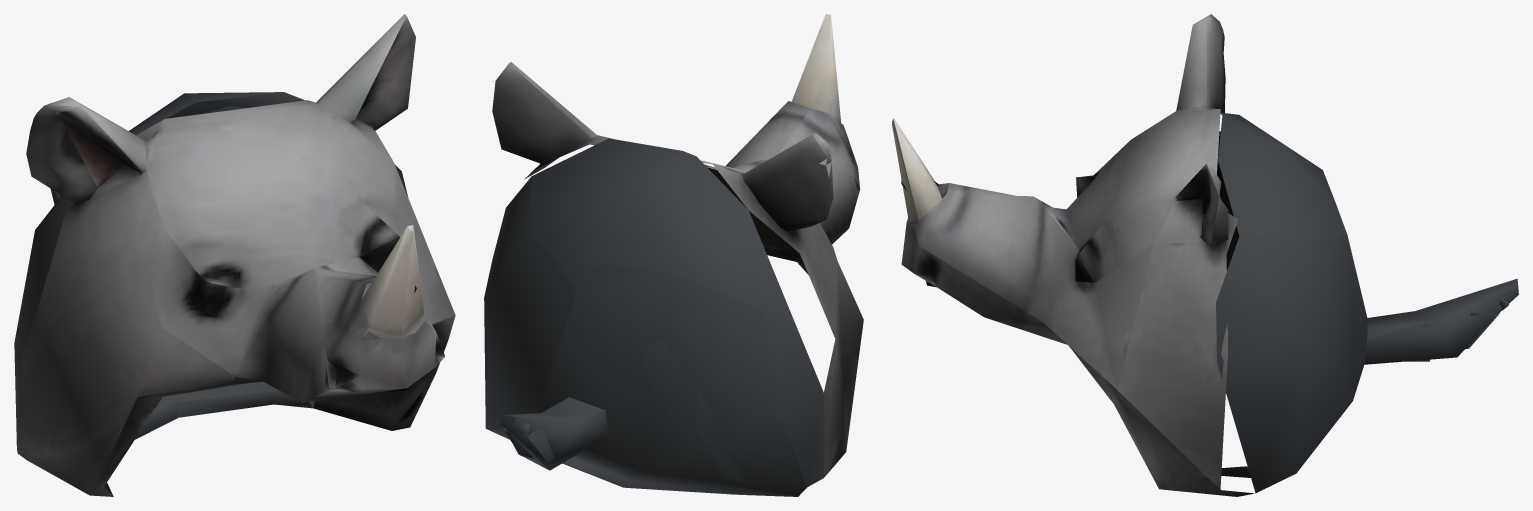
File: rhino.glb
3 renders of one model, left to right at view 1: azimuth 30°, elevation 25°; view 2: azimuth 150°, elevation 25°; view 3: azimuth 270°, elevation 25°, orthographic. The views are drawn at different scales.
Parts seen in each view (by area): view 1: geometry_0; view 2: geometry_0; view 3: geometry_0.
Part boxes in pixels (x1,y1,x2,y2): geometry_0: (14, 14, 455, 496); geometry_0: (484, 14, 863, 496); geometry_0: (892, 14, 1518, 496).
Bounding box in the file's own units: 0.4725 × 0.4584 × 0.7523.
Materials: 2 (1 with a texture image).
